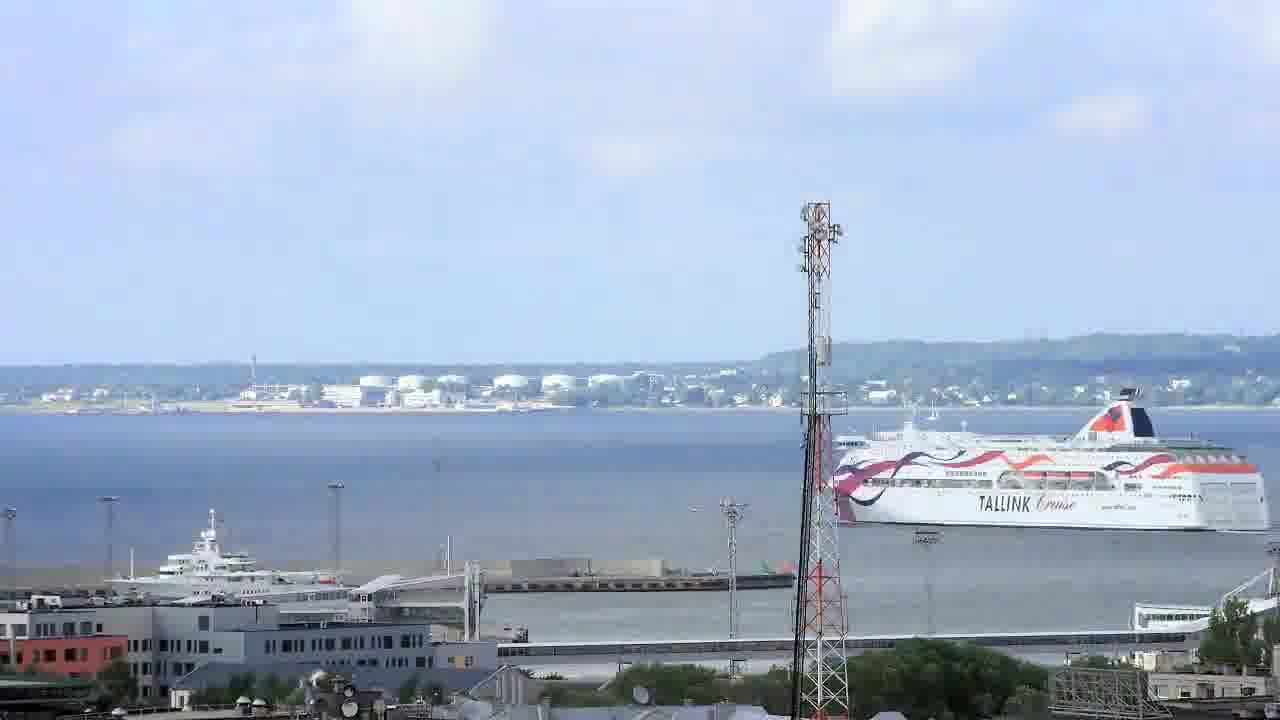type-3: (822, 407, 1266, 555), (96, 508, 381, 605)
